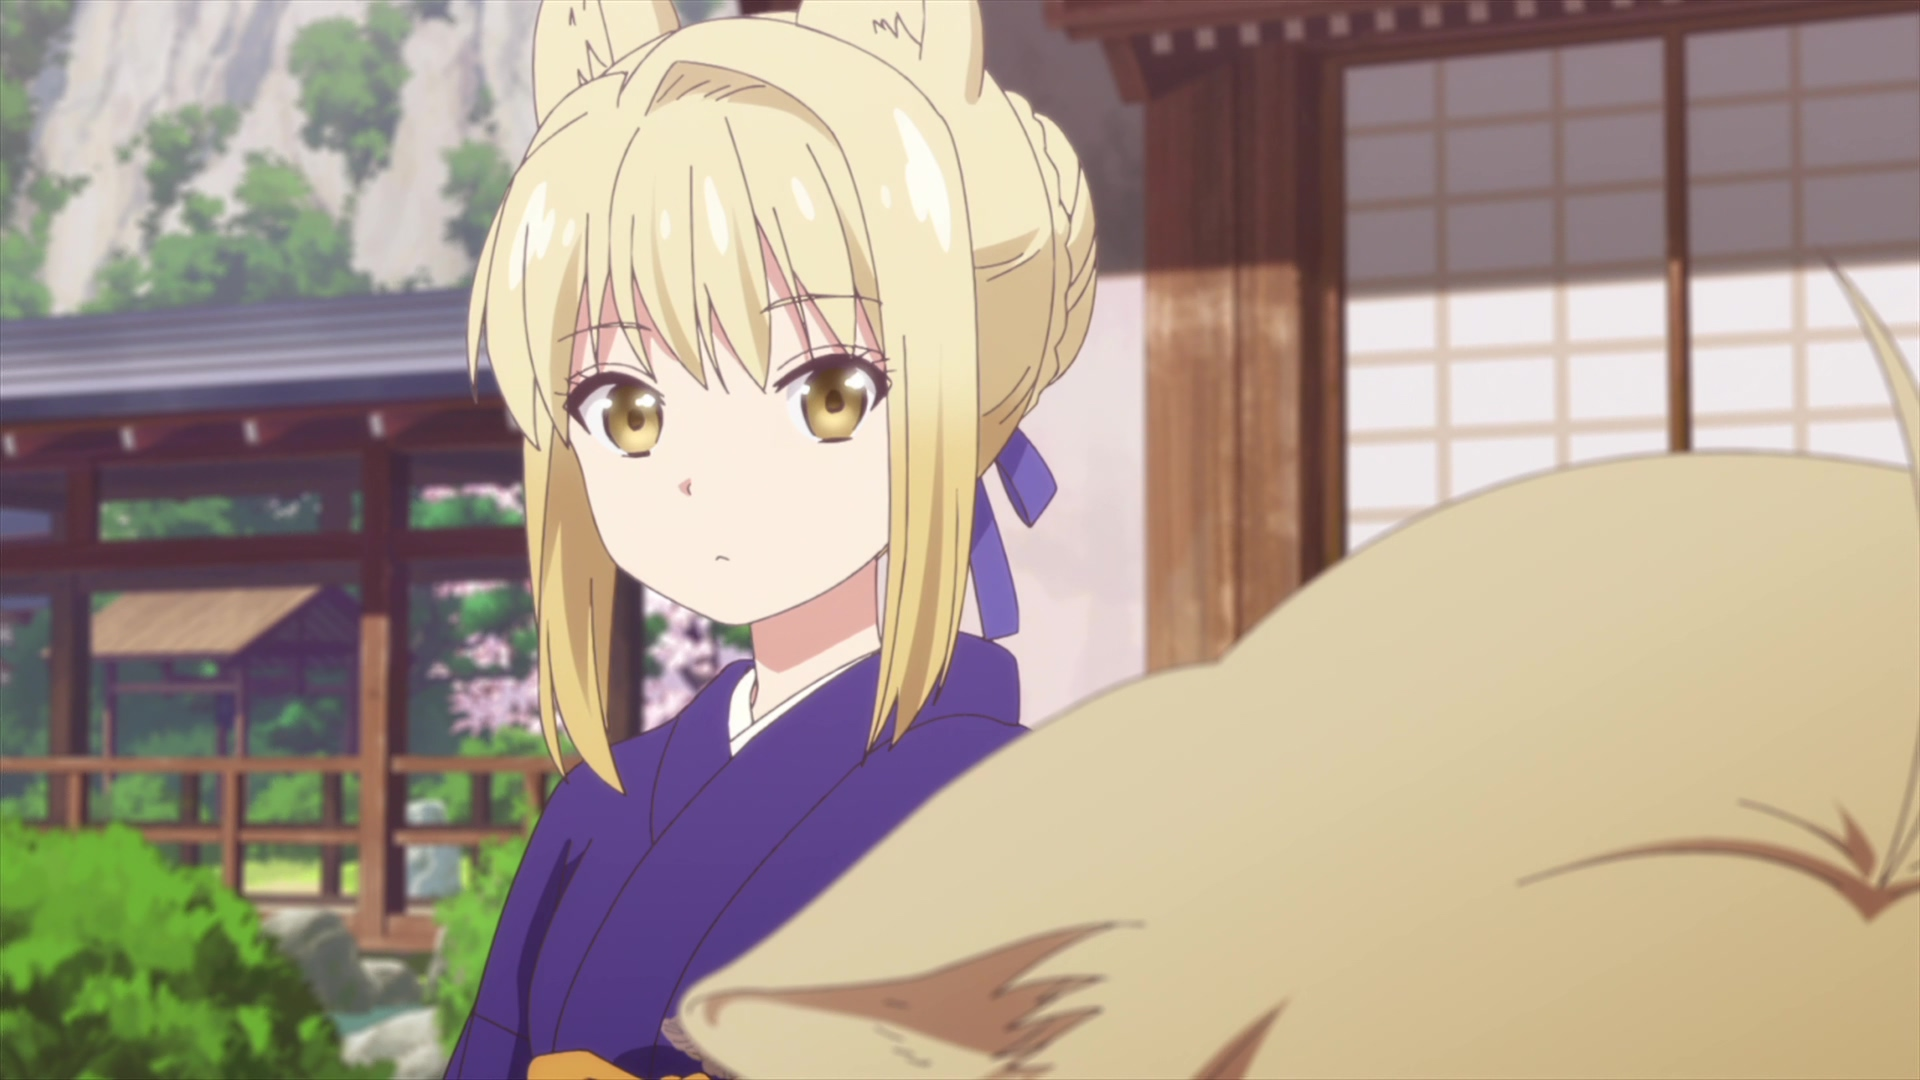柚: (676, 253, 1920, 1080)
桐: (436, 1, 1098, 1080)
